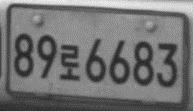3: (156, 41, 178, 86)
6: (82, 38, 106, 83), (109, 39, 130, 84)
8: (131, 40, 155, 87), (13, 32, 34, 78)
9: (36, 33, 58, 79)
로: (58, 43, 81, 81)
